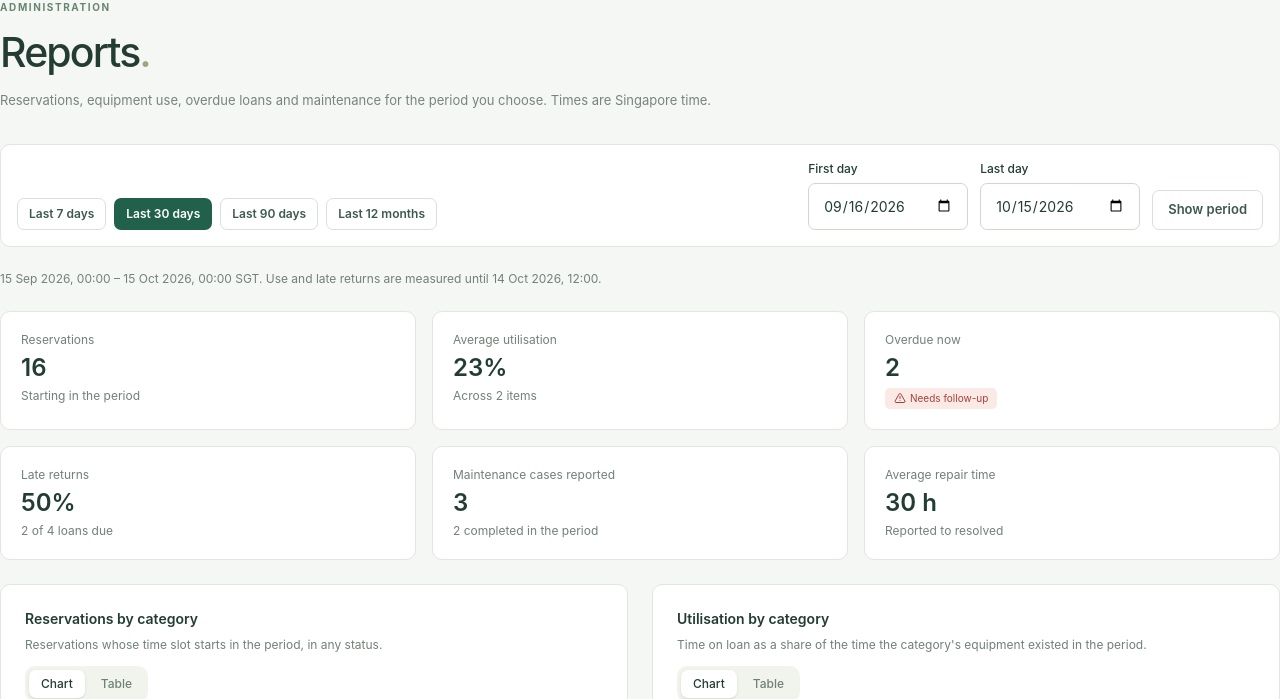
Test: reports page › rejects a custom range that ends before it starts
Expected: the element named "Summary" is shown, [0,310,1279,560]
Type "2026-10-10" into the date field labelled "First day" at (888, 206), box [808,182,968,230]
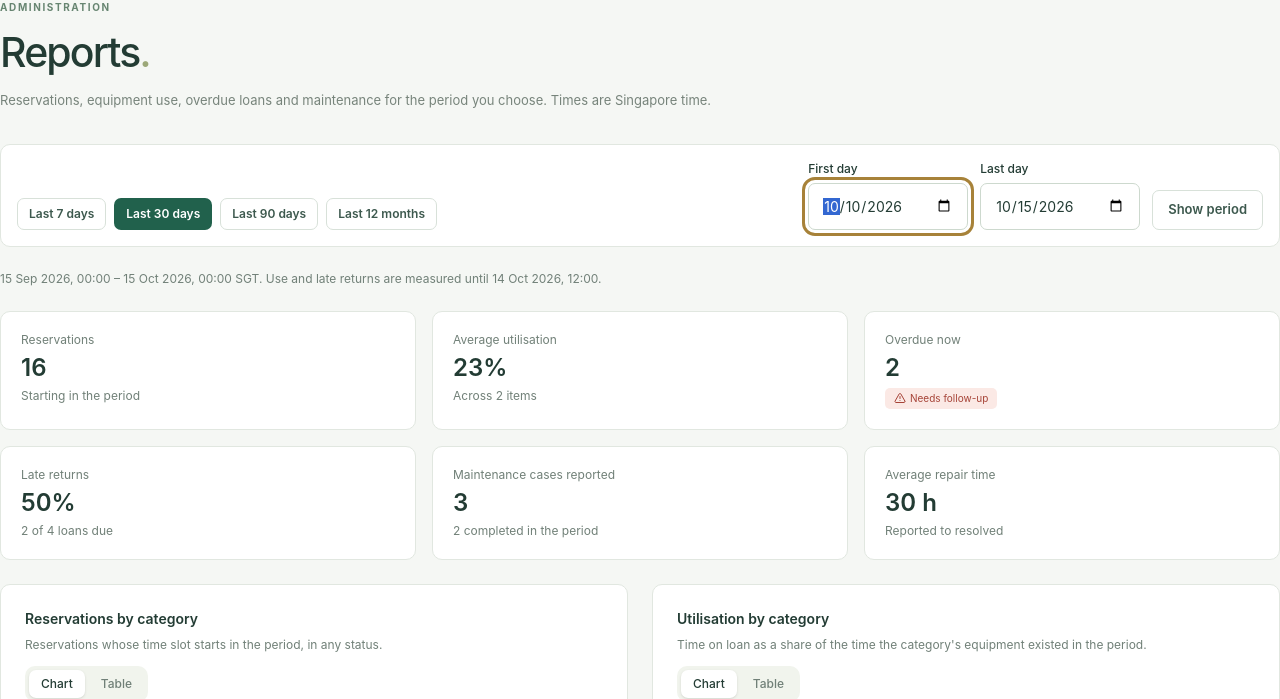
Type "2026-10-01" into the date field labelled "Last day" at (1060, 206), box [980,182,1140,230]
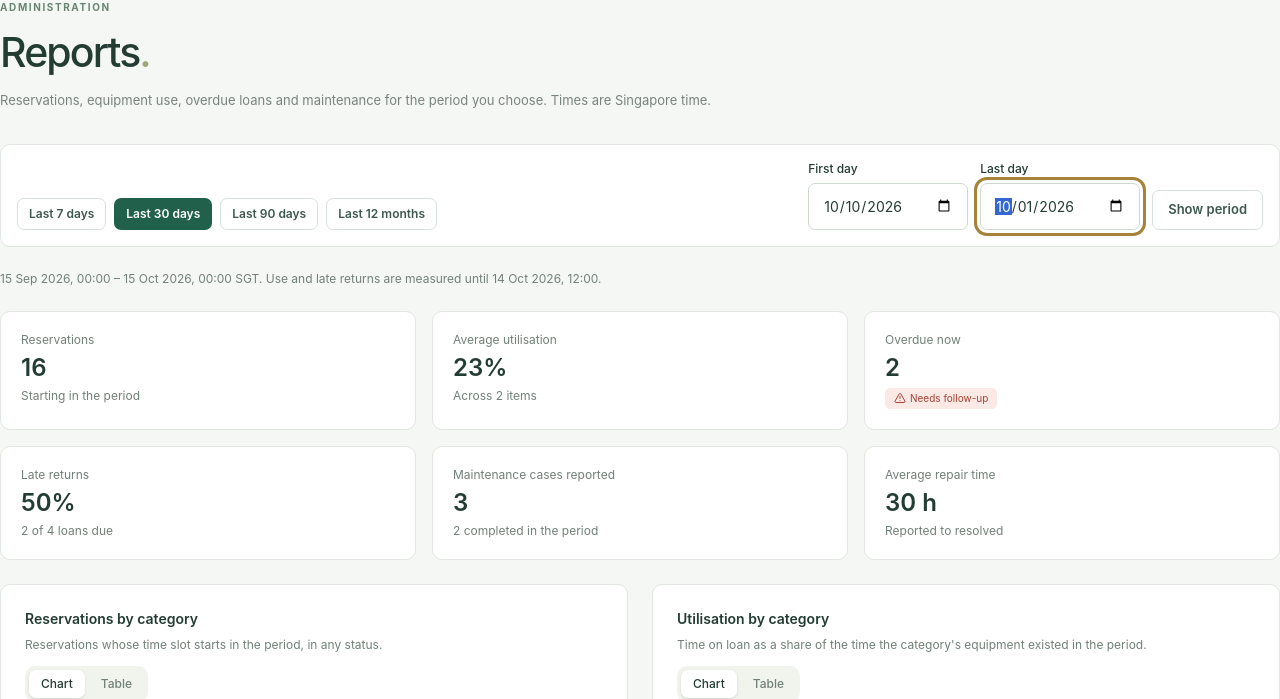
Click the button "Show period" at (1208, 210), box [1152,190,1263,230]
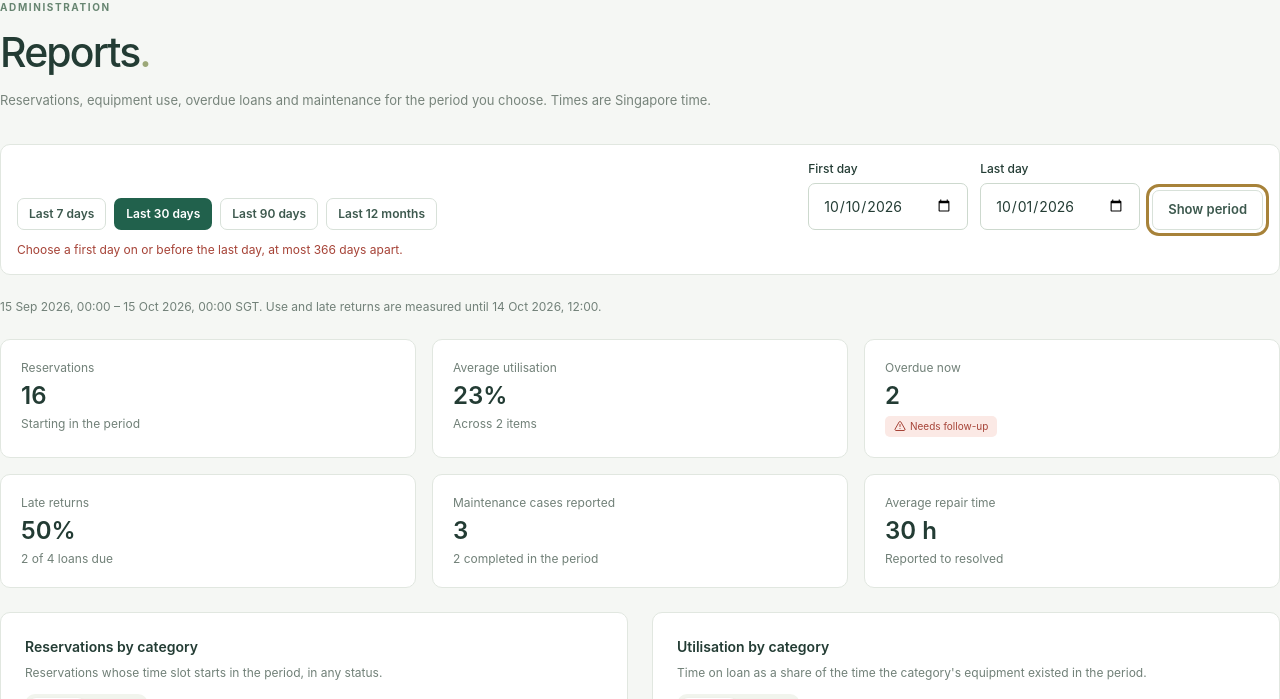
Expected: the message shows "first day on or before the last day", [17,242,403,256]
